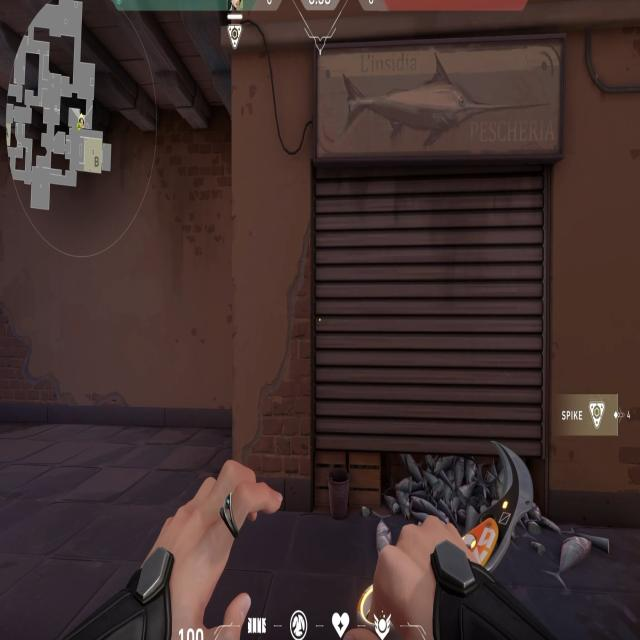B_Main_Corner: (219, 19, 590, 549)
